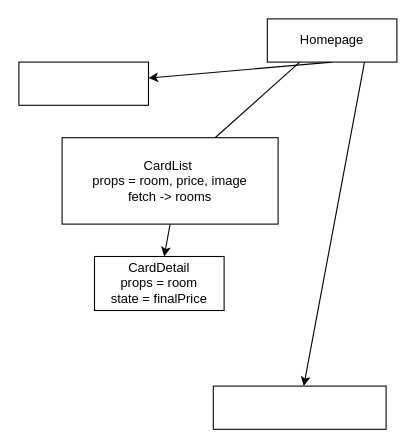
Image size: 416x448. Some labels were removed from this diagram. Here are the shapes that lost their labels. From the top down, the centre of each, then its label:
pixel 83 83: Header
pixel 299 407: Footer
